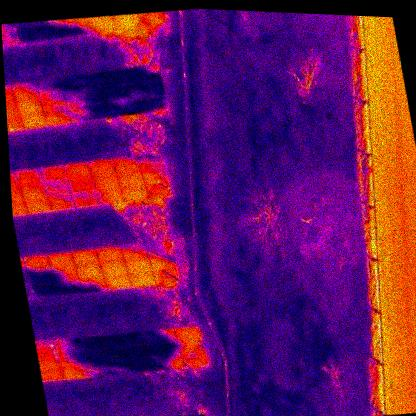Hotspot: (144, 181, 172, 199), (142, 168, 170, 186), (7, 114, 24, 134)
Normal: (112, 156, 142, 176), (87, 14, 115, 35), (22, 253, 51, 273), (67, 174, 96, 194), (63, 160, 92, 180), (103, 271, 131, 291), (124, 255, 153, 274), (95, 244, 124, 263), (96, 187, 125, 206), (112, 12, 141, 31), (17, 168, 44, 188), (16, 95, 43, 115), (100, 257, 128, 276), (121, 184, 149, 203), (20, 183, 48, 202), (39, 164, 67, 183), (89, 158, 117, 177), (75, 262, 104, 280), (71, 248, 100, 266), (92, 173, 121, 191), (174, 324, 202, 342), (128, 270, 156, 288), (24, 197, 52, 215), (117, 171, 145, 189), (20, 110, 46, 129), (48, 250, 75, 268), (6, 99, 19, 119), (5, 86, 14, 103), (130, 415, 160, 416)
Shadow: (90, 100, 121, 121), (35, 75, 64, 96), (87, 85, 117, 105), (84, 69, 114, 89), (42, 104, 70, 125), (66, 102, 94, 123), (39, 89, 67, 110), (113, 81, 141, 102), (137, 78, 165, 99), (16, 23, 44, 44), (138, 152, 167, 172), (116, 97, 145, 117), (134, 63, 163, 83), (80, 274, 108, 294), (72, 189, 100, 209), (43, 177, 71, 197), (141, 94, 169, 114), (11, 80, 39, 100), (110, 66, 138, 86), (41, 20, 69, 40), (120, 241, 149, 260), (138, 10, 167, 29), (145, 238, 172, 258), (63, 87, 90, 107), (65, 16, 92, 36), (84, 359, 112, 378), (182, 351, 210, 370), (81, 345, 108, 364), (150, 326, 177, 345), (150, 253, 178, 271), (48, 194, 76, 212), (59, 73, 87, 91), (132, 355, 160, 373), (57, 349, 85, 367), (130, 342, 157, 360), (53, 335, 80, 353), (55, 277, 82, 295), (29, 268, 56, 286), (52, 265, 79, 283), (105, 345, 133, 362), (100, 333, 128, 350), (125, 330, 153, 347), (60, 363, 88, 380), (178, 339, 205, 356), (32, 282, 59, 299), (153, 268, 180, 285), (78, 334, 104, 351), (109, 358, 135, 375), (158, 353, 184, 370), (155, 342, 181, 358), (2, 27, 19, 47), (181, 412, 210, 416), (155, 414, 185, 416)
